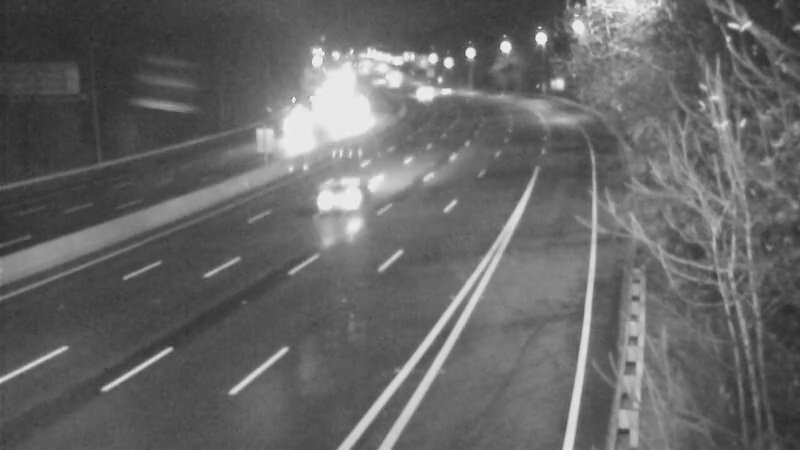vehicle: (301, 153, 381, 233), (419, 68, 469, 118), (397, 68, 447, 118), (265, 110, 315, 160)
